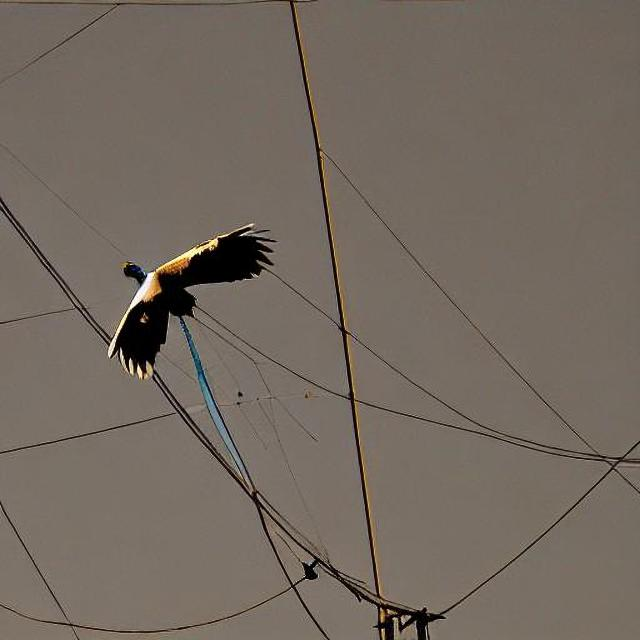floating object: (111, 224, 269, 370)
